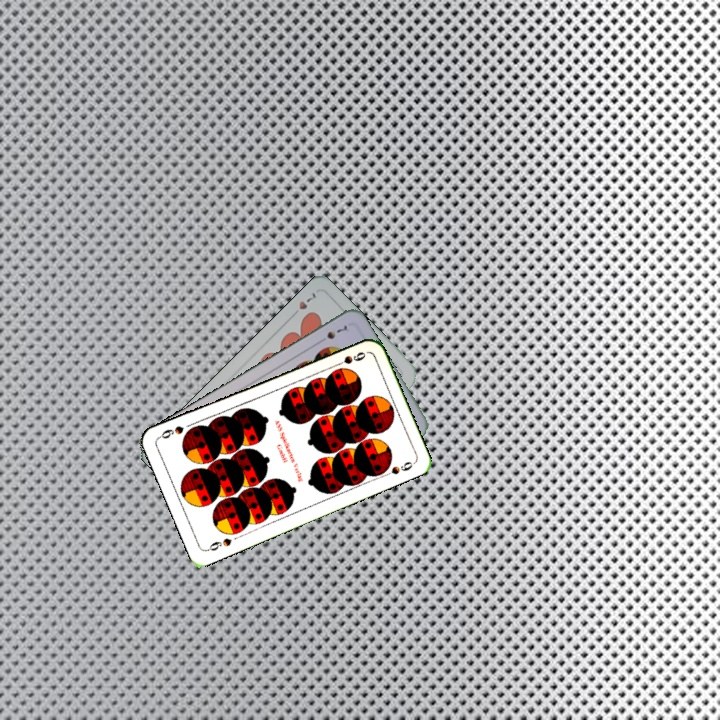H7: (287, 288, 318, 320)
S7: (314, 322, 350, 346)
S9: (330, 348, 368, 370), (203, 534, 234, 554)
